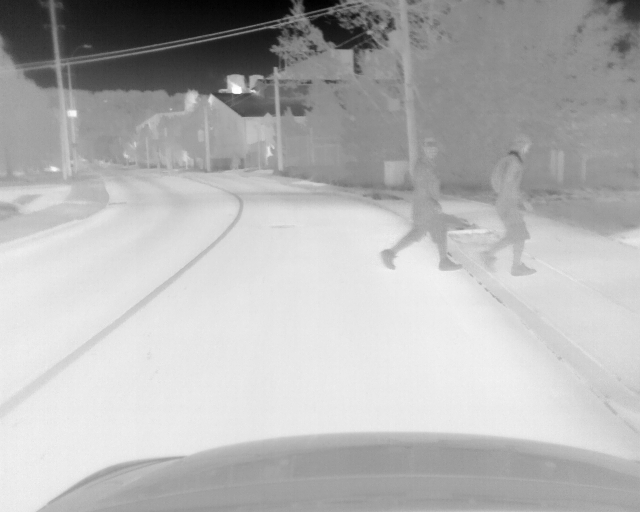people: (381, 135, 465, 271), (483, 133, 538, 277)
